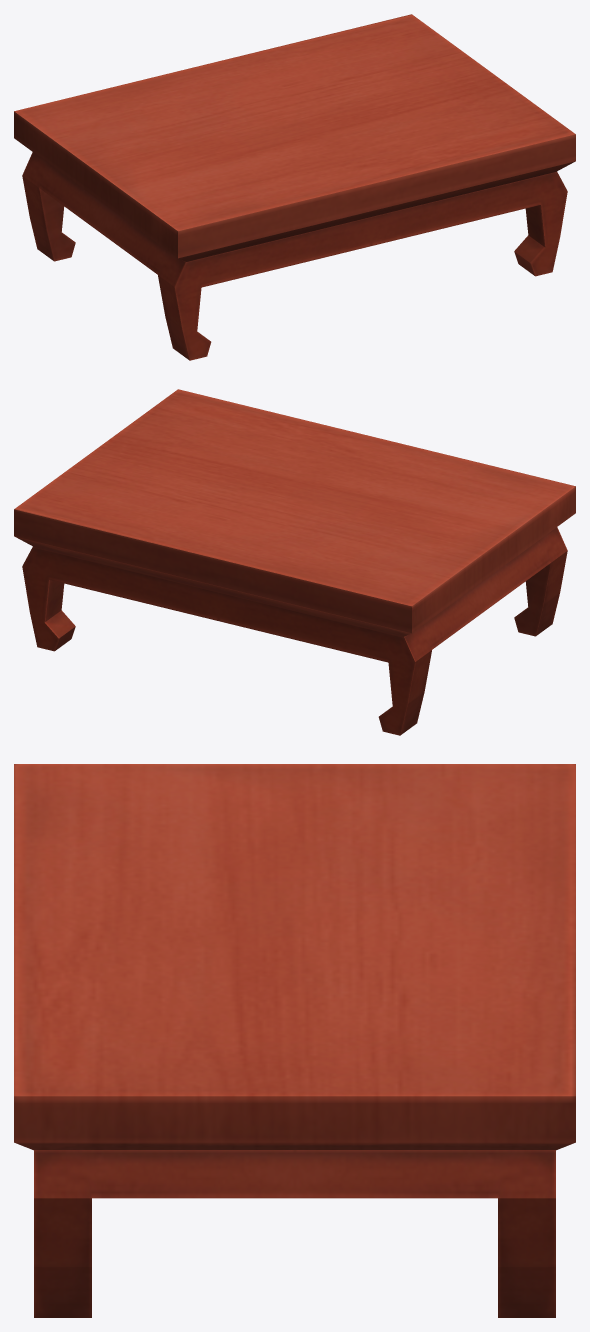
Rendered from tea_table_01.DAE.
3 renders of one model, top to bottom at view 1: azimuth 30°, elevation 25°; view 2: azimuth 150°, elevation 25°; view 3: azimuth 270°, elevation 25°, orthographic. The views are drawn at different scales.
Parts seen in each view (by area): view 1: Tea_table_01; view 2: Tea_table_01; view 3: Tea_table_01.
Boxes of the visible parts, x1,y1,x2,y2 form: Tea_table_01: (14, 14, 575, 360); Tea_table_01: (14, 389, 575, 735); Tea_table_01: (14, 764, 575, 1317).
Size of the model in its own units: 181 by 59.9 by 129.
